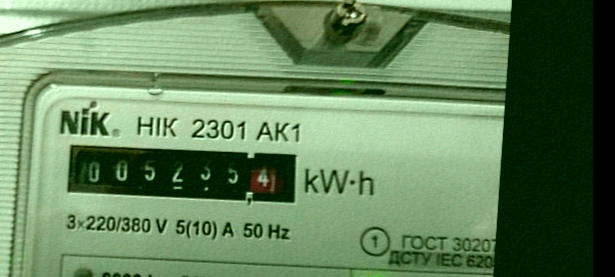0: (84, 159, 101, 185), (112, 159, 129, 184)
2: (167, 159, 185, 186)
3: (195, 158, 213, 184)
4: (252, 162, 272, 192)
5: (222, 159, 240, 188), (141, 158, 156, 184)
screen: (52, 129, 306, 218)
